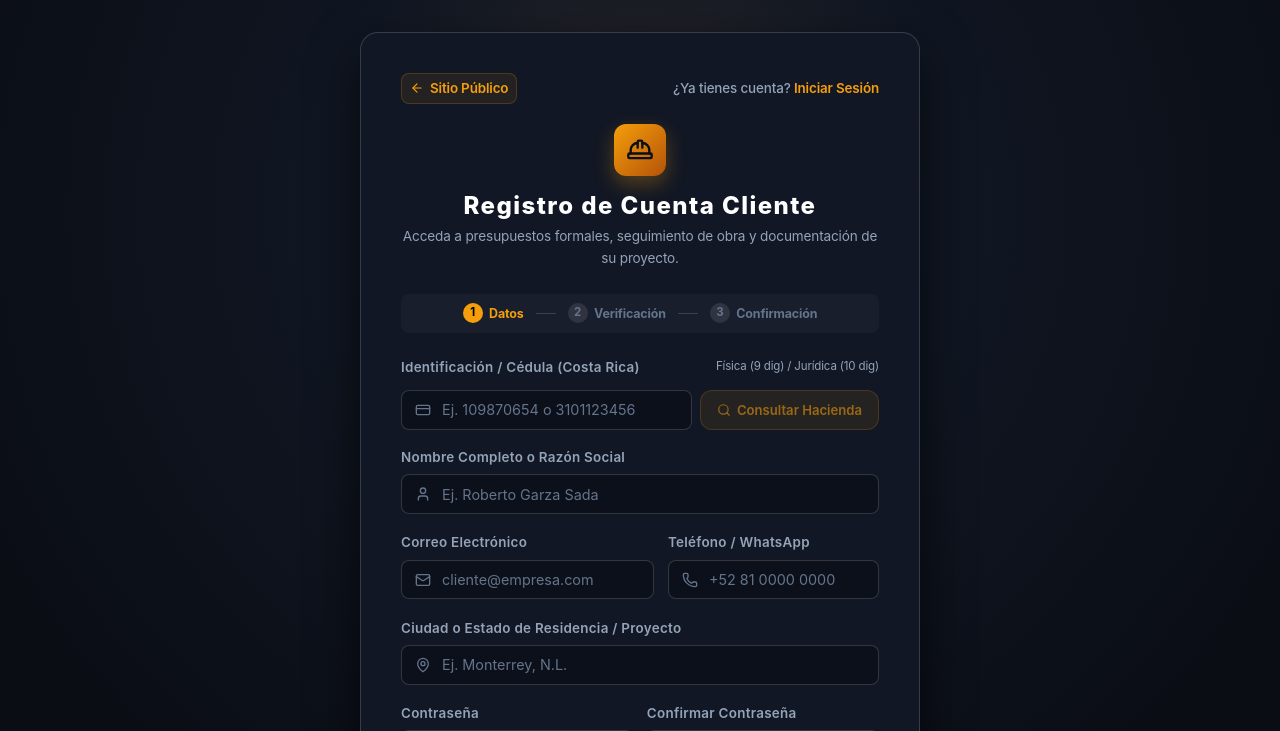
Scenario: Componente ClientRegister con Hacienda CR › 2. Consulta Hacienda y autocompleta nombre del cliente
Type "109870654" into the field labelled "Identificación / Cédula (Costa Rica)". click: (546, 410)
box: x1=401 y1=390 x2=692 y2=430
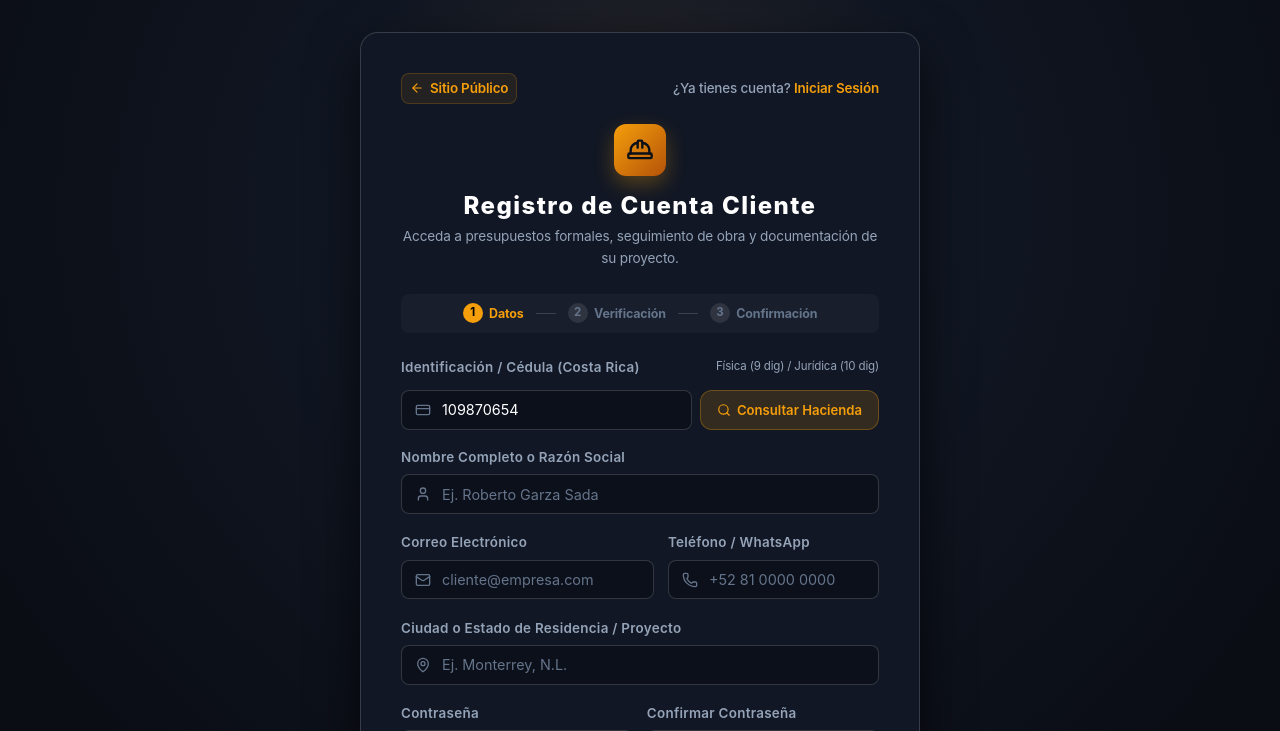
Click the button "Consultar Hacienda". click: (789, 410)
box: x1=700 y1=390 x2=879 y2=430
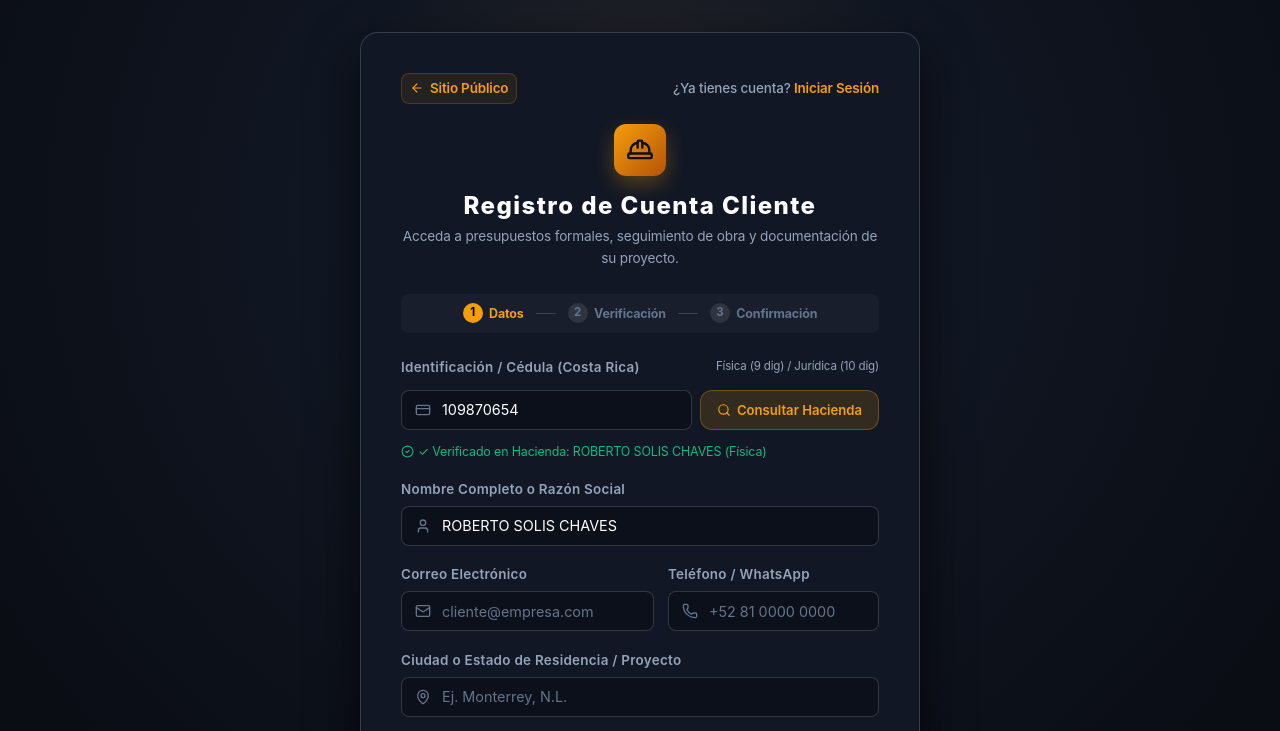
Expected: the field labelled "Nombre Completo o Razón Social" holds "ROBERTO SOLIS CHAVES", x1=401 y1=506 x2=879 y2=546
Expected: the text "✓ Verificado en Hacienda: ROBERTO SOLIS CHAVES (Física)" is shown, x1=401 y1=444 x2=767 y2=459
